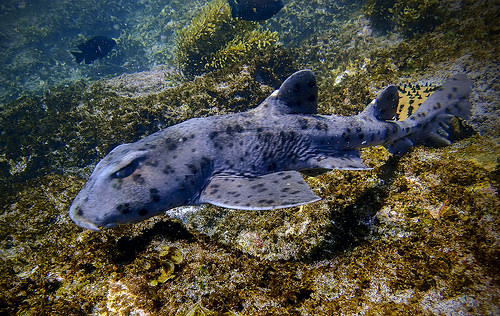shark: (54, 44, 486, 246)
